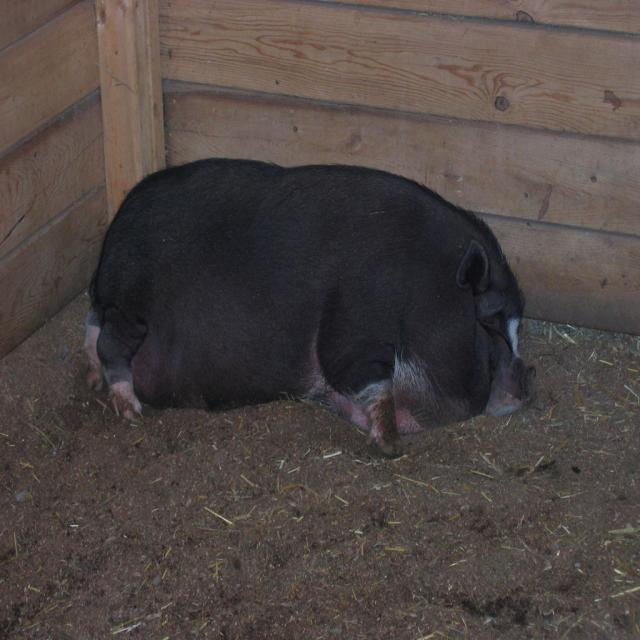Pig: (86, 155, 536, 453)
